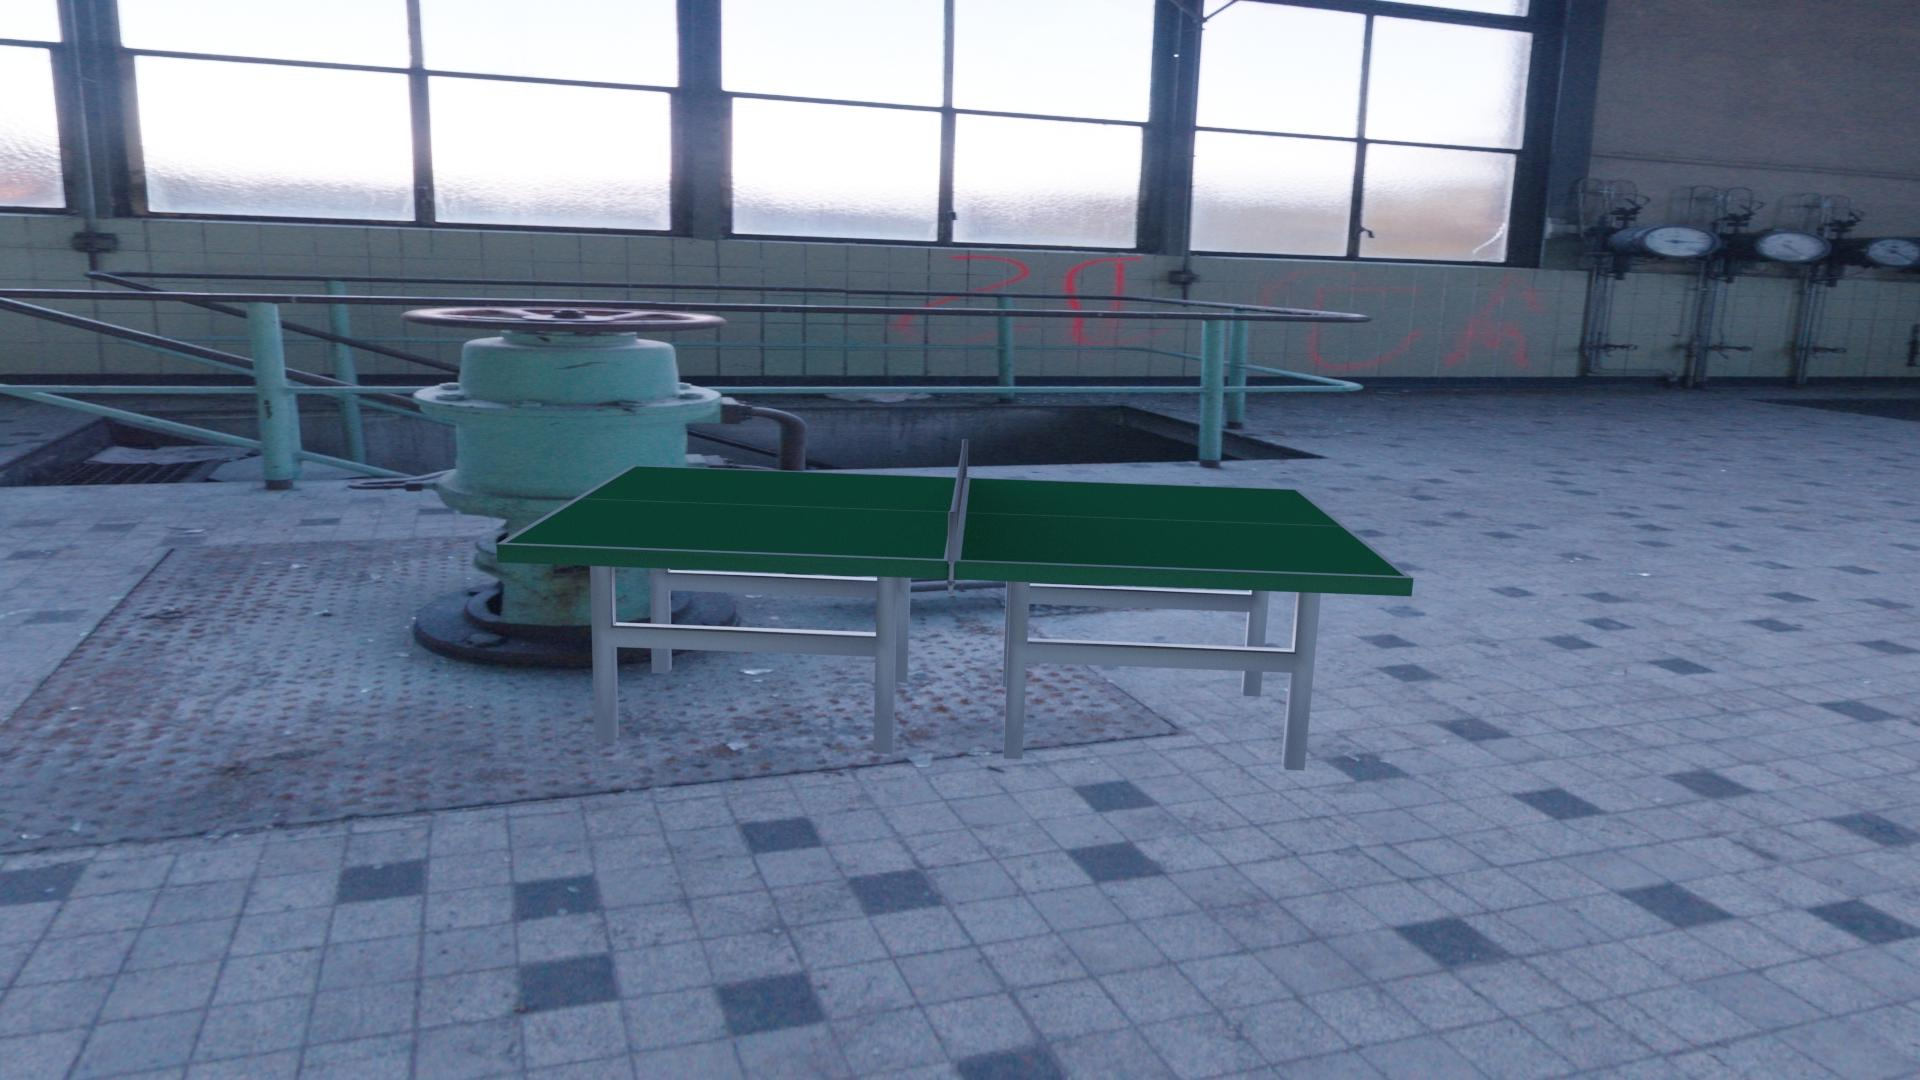table: (505, 465, 1404, 576)
